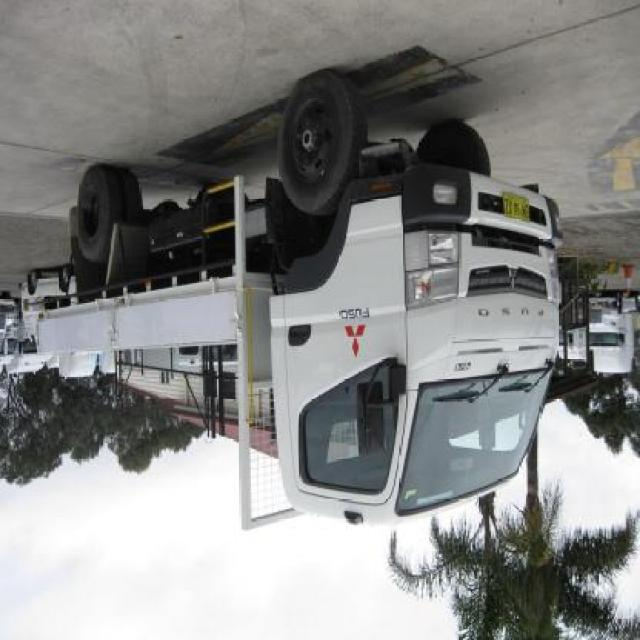truck: (41, 72, 567, 538)
